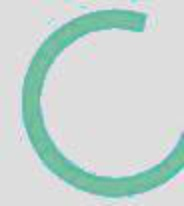ProgressBar: (1, 1, 183, 205)
